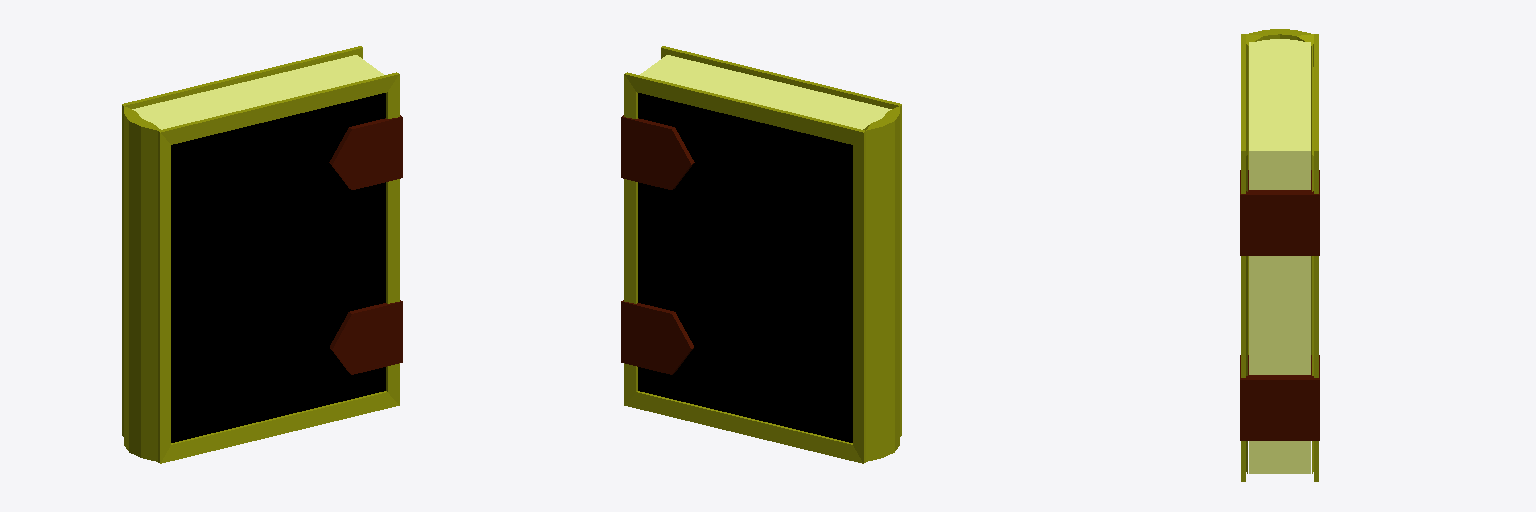
Rendered from Book_02.obj.
The picture shows the model from 3 angles: view 1: azimuth 30°, elevation 25°; view 2: azimuth 150°, elevation 25°; view 3: azimuth 270°, elevation 25°; orthographic projection.
Parts seen in each view (by area): view 1: Book_02_Cube.002; view 2: Book_02_Cube.002; view 3: Book_02_Cube.002.
Part boxes in pixels (bbox=[...]): Book_02_Cube.002: bbox=[122, 46, 402, 463]; Book_02_Cube.002: bbox=[621, 46, 901, 463]; Book_02_Cube.002: bbox=[1240, 29, 1319, 481].
Size of the model in its own units: 8.68 by 10.86 by 2.4.